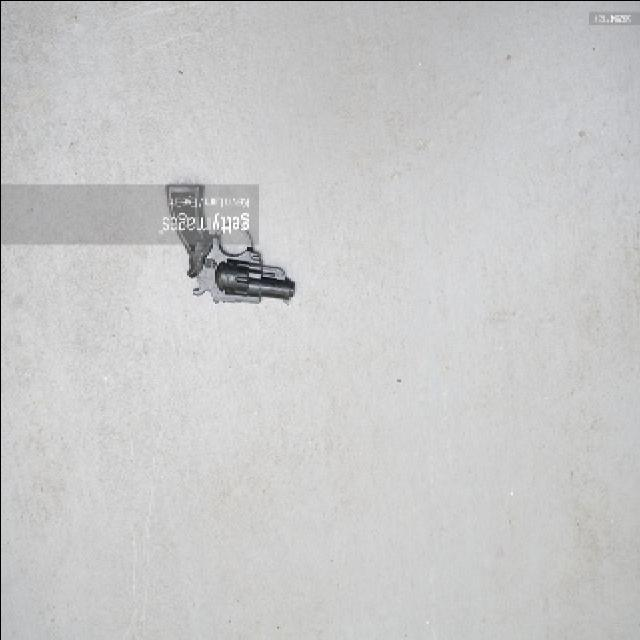handgun: (155, 184, 307, 310)
